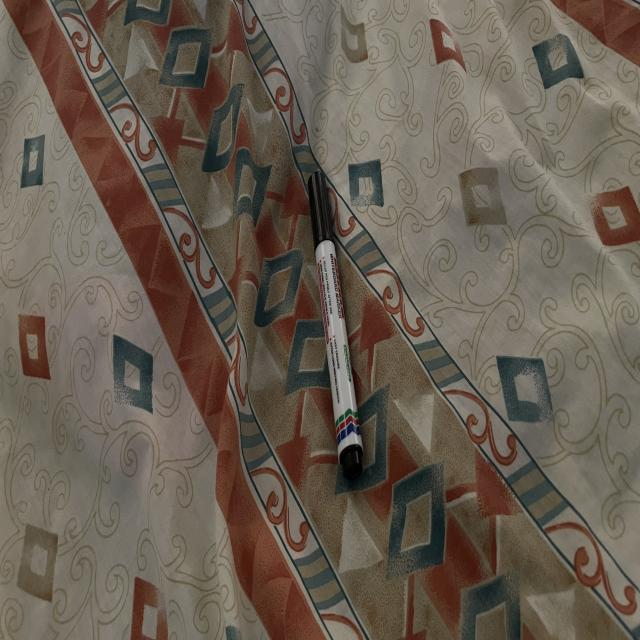marker: (308, 170, 364, 480)
